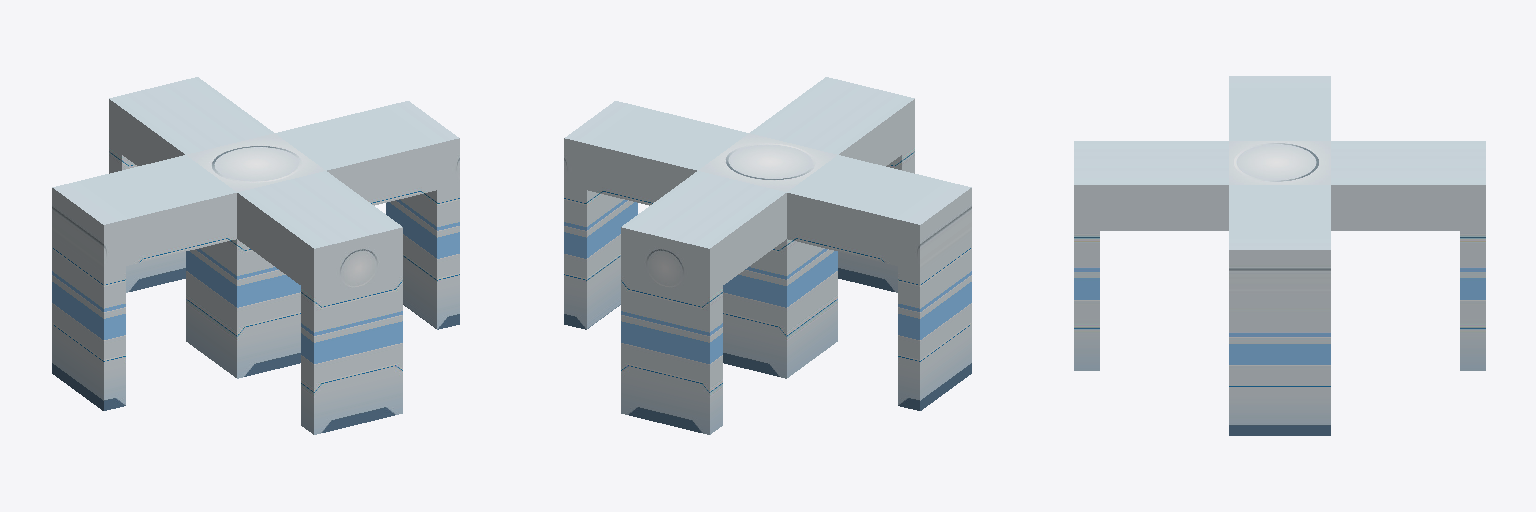
3 renders of one model, left to right at view 1: azimuth 30°, elevation 25°; view 2: azimuth 150°, elevation 25°; view 3: azimuth 270°, elevation 25°, orthographic.
Visible parts, largest first — view 1: mesh01; view 2: mesh01; view 3: mesh01.
Boxes of the visible parts, box(x1,y1,x2,y2) form: mesh01: box(52, 77, 459, 434); mesh01: box(564, 77, 971, 434); mesh01: box(1074, 76, 1485, 435).
Bounding box in the file's own units: 80 × 40 × 80.
1 materials, 1 textured.